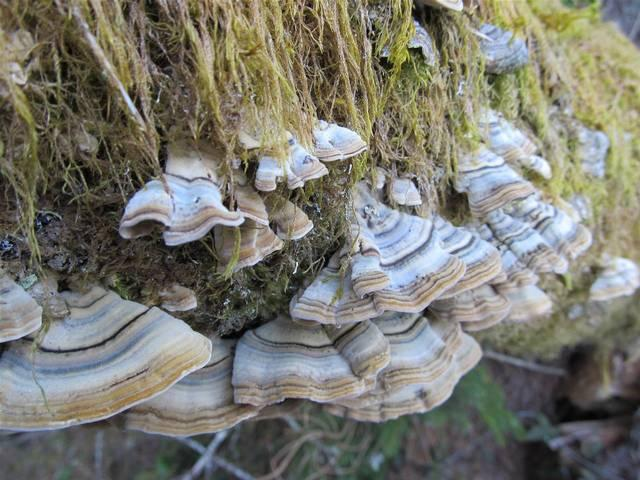Non-edible Mushroom: (228, 89, 640, 427), (0, 272, 213, 433), (117, 171, 245, 247)
